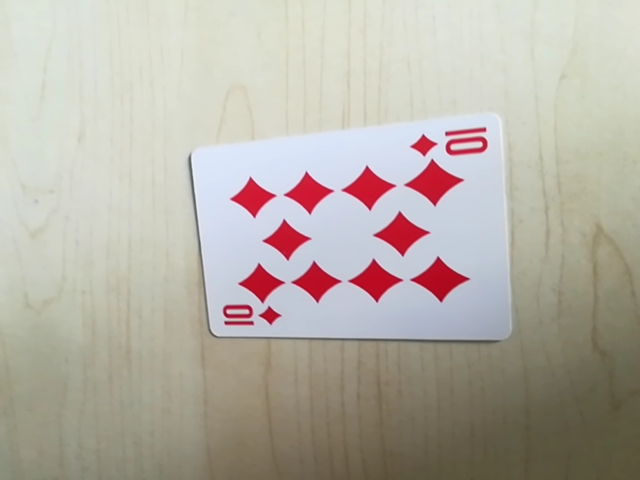fk 10: (408, 121, 497, 163), (214, 302, 284, 335)
